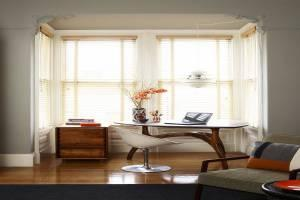window: (56, 35, 237, 125)
